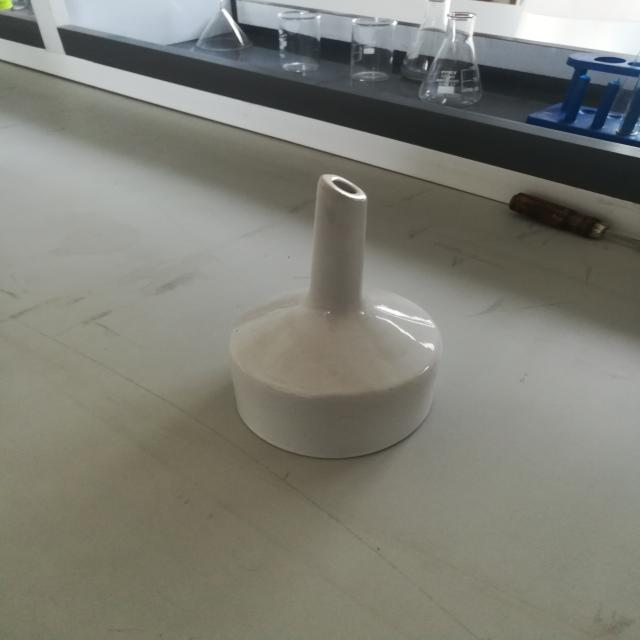Buchner_Funnel: (181, 131, 495, 480)
